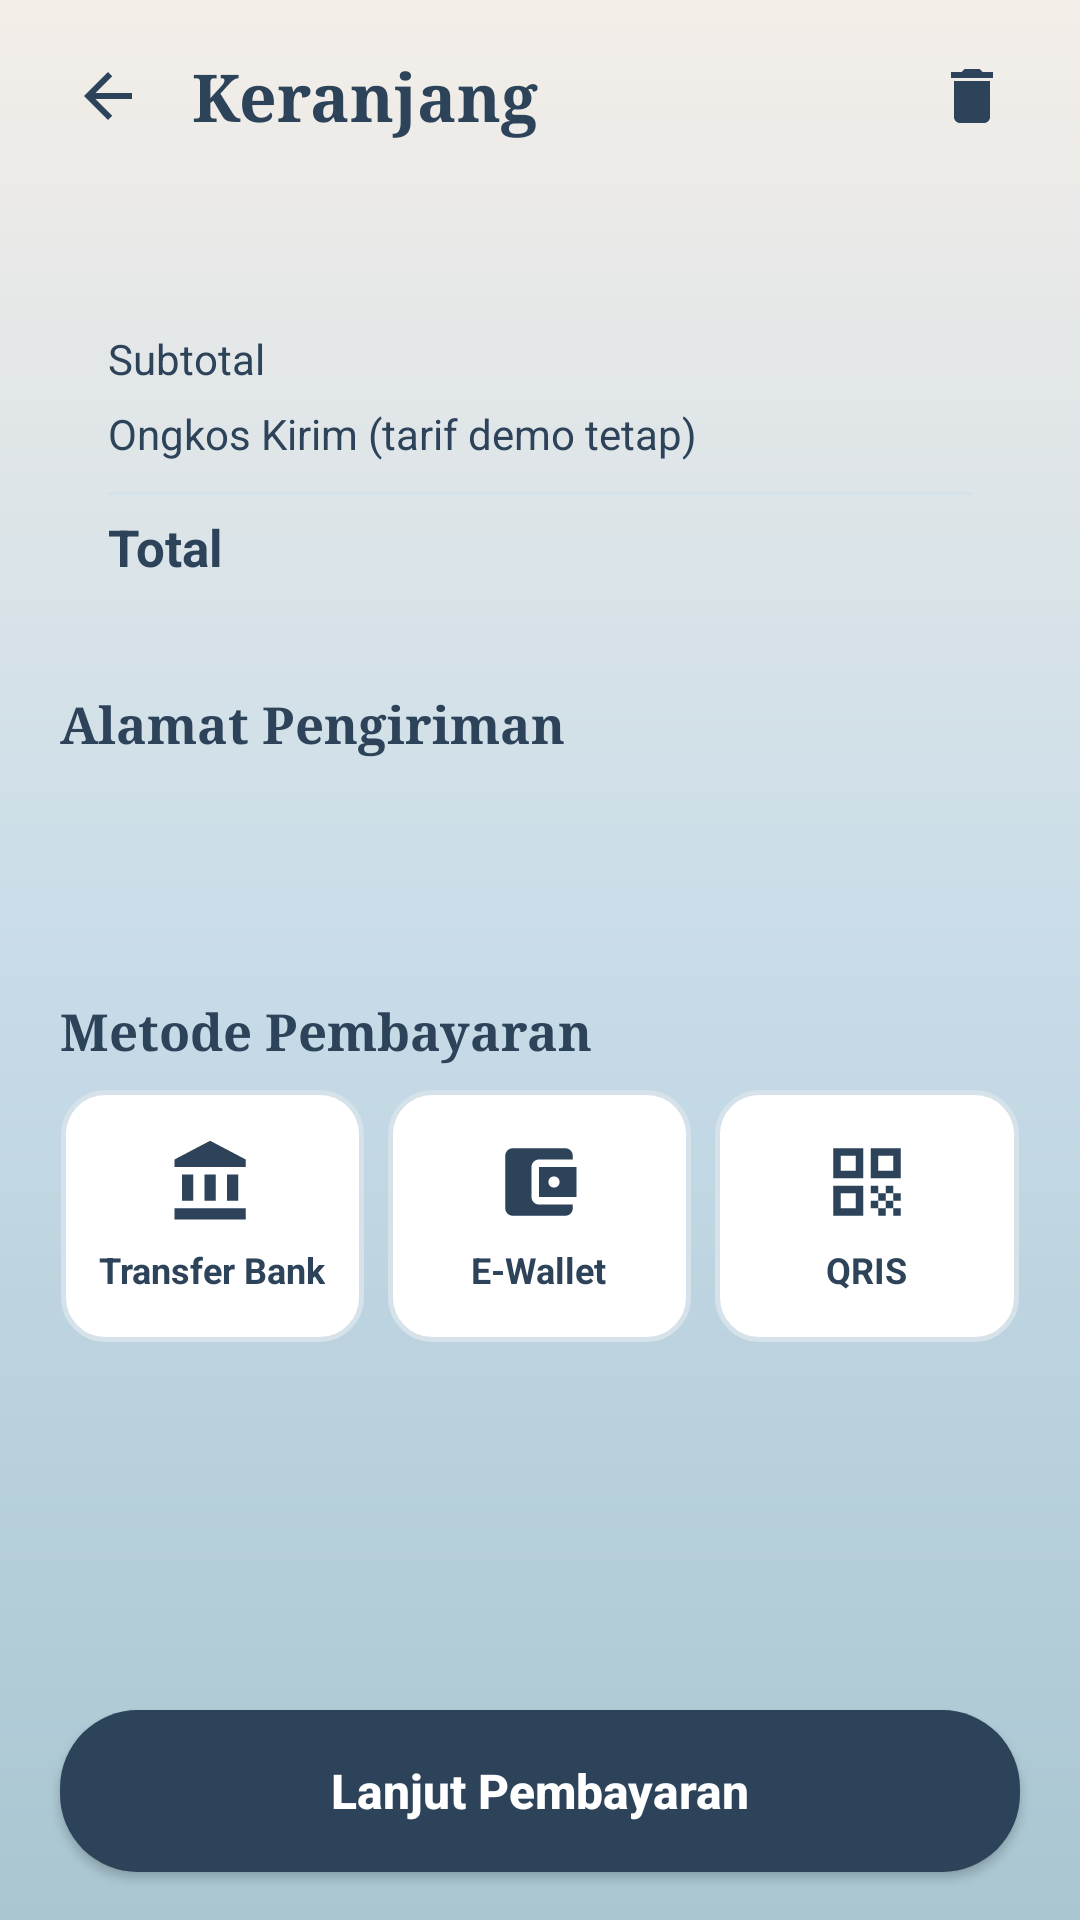

Icon bounding boxes for this 1080*1920 phone screenshot, format box(x1, y1, x2, y2):
Kembali: box(84, 72, 132, 120)
